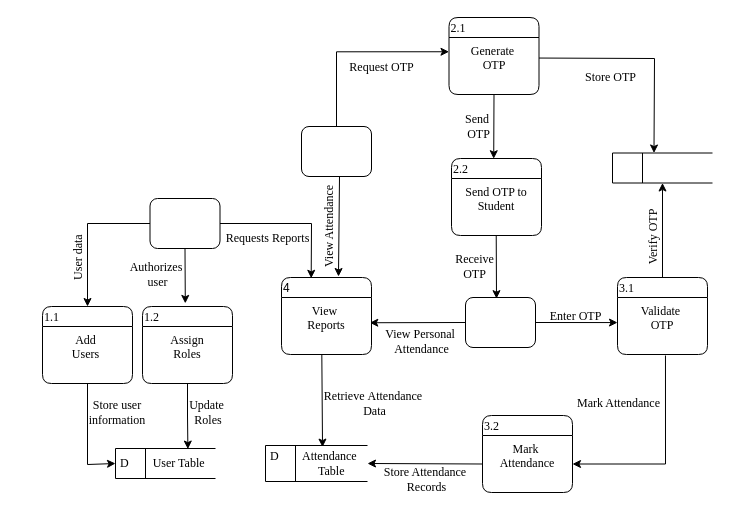
The diagram is 730 pixels wide and 517 high, and some of its shapes have lost their labels. Each missing label, with the box of its shape:
Admin: (149, 198, 220, 248)
D OTP Table: (612, 152, 712, 183)
Student: (464, 296, 536, 348)
Teacher: (300, 126, 372, 176)
